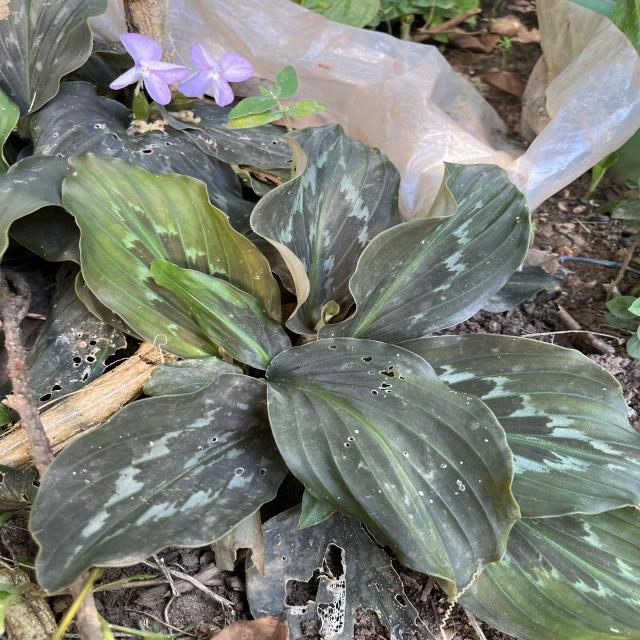Kaempferia galanga linn: (262, 334, 524, 608), (25, 371, 290, 596), (60, 150, 284, 364), (312, 158, 534, 346), (248, 121, 406, 339), (148, 256, 294, 372)
